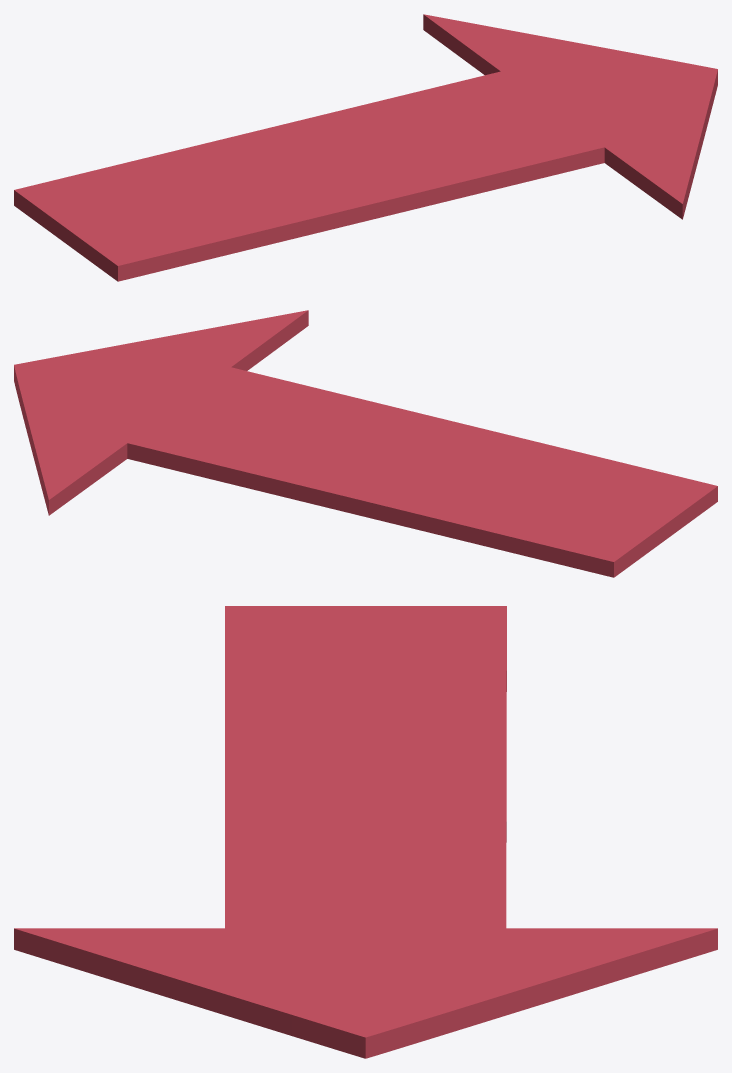
The model's file is Fantabulous Densor.glb.
The picture shows the model from 3 angles, top to bottom: view 1: azimuth 30°, elevation 25°; view 2: azimuth 150°, elevation 25°; view 3: azimuth 270°, elevation 25°; orthographic projection. The views are drawn at different scales.
Parts seen in each view (by area): view 1: Mesh_Mesh_head_geo.001_lambert2SG.001; view 2: Mesh_Mesh_head_geo.001_lambert2SG.001; view 3: Mesh_Mesh_head_geo.001_lambert2SG.001.
Boxes of the visible parts, box(x1,y1,x2,y2) form: Mesh_Mesh_head_geo.001_lambert2SG.001: box(14, 14, 717, 281); Mesh_Mesh_head_geo.001_lambert2SG.001: box(14, 310, 717, 577); Mesh_Mesh_head_geo.001_lambert2SG.001: box(14, 606, 717, 1058).
Size of the model in its own units: 87 by 2 by 60.
